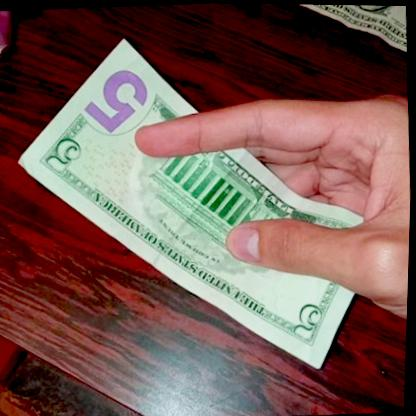five-back: (3, 20, 397, 385)
